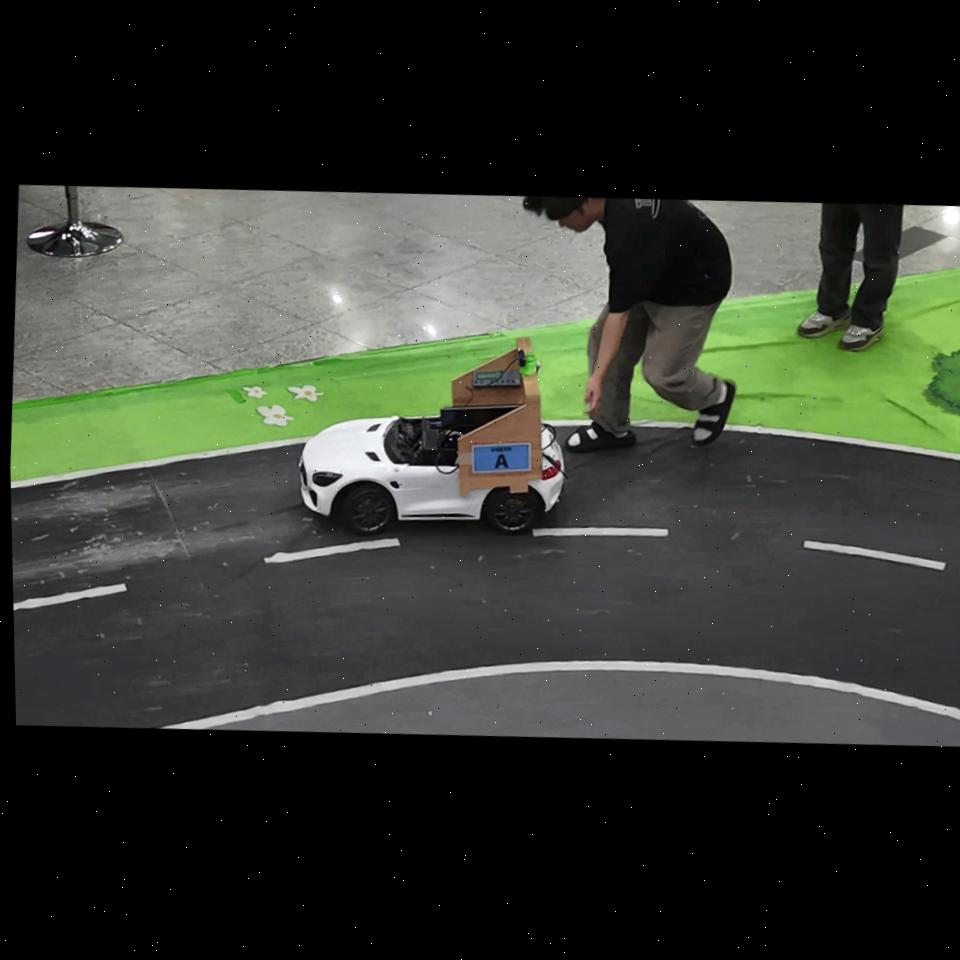broken_line: (803, 540, 945, 570), (264, 538, 400, 563), (13, 583, 127, 612), (533, 527, 668, 537)
